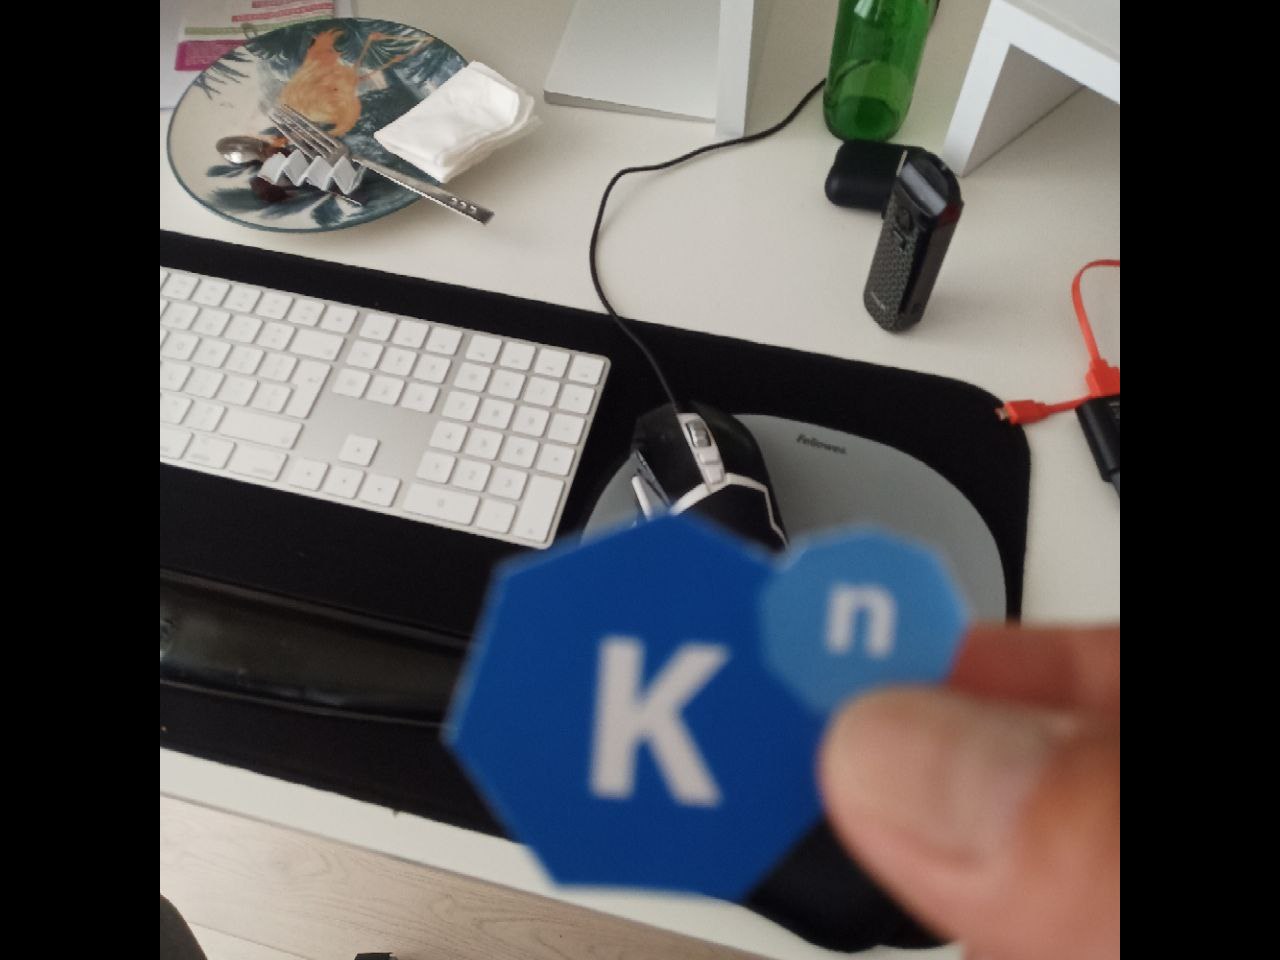knative: (436, 511, 975, 897)
